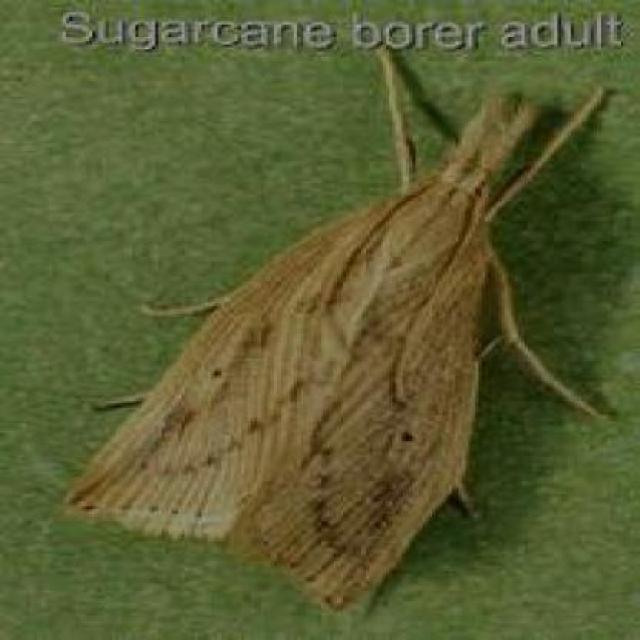stem-borer: (57, 62, 628, 620)
